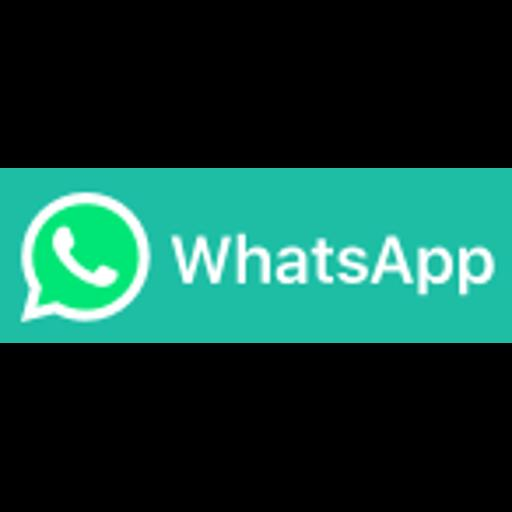WhatsApp: (0, 168, 512, 343)
